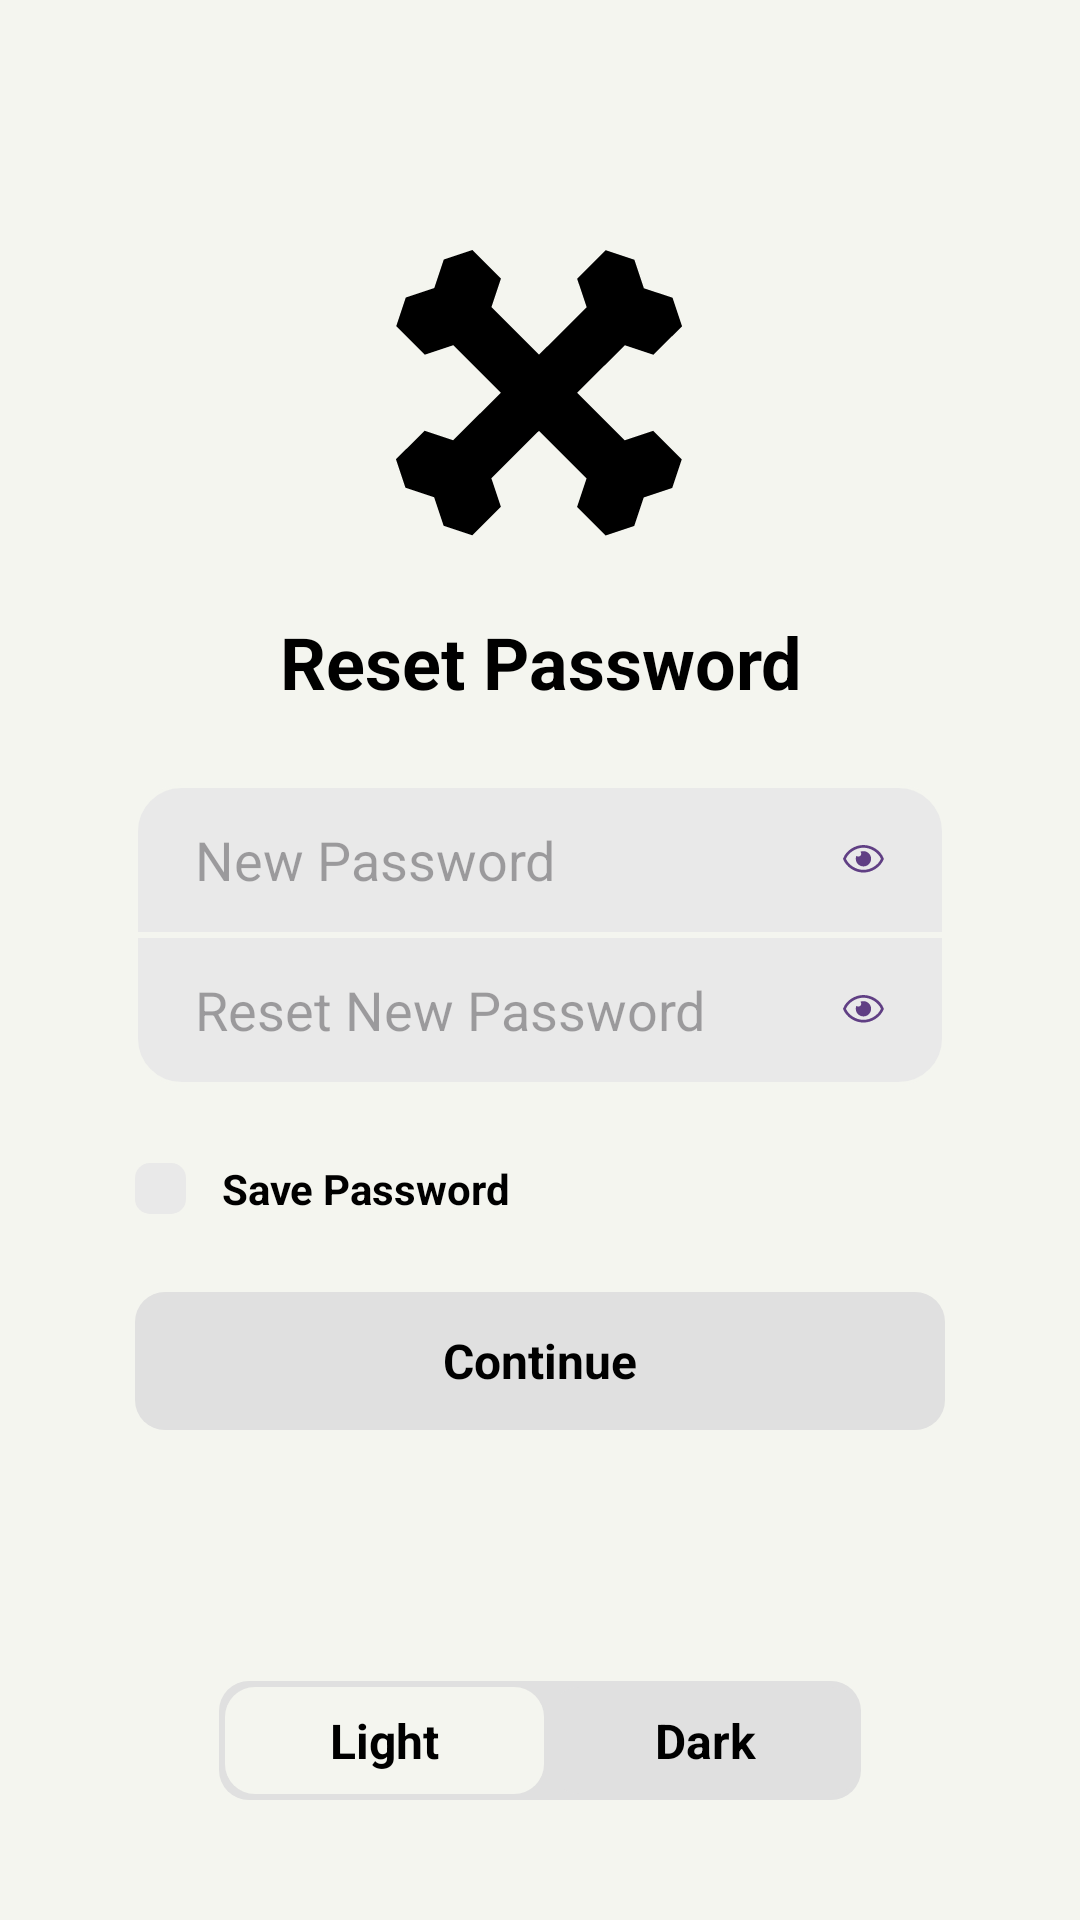

Where icons sit on this 1080px×1920px app screen, as bbox(x1, y1, x2, y2):
eye: bbox(843, 845, 884, 873), bbox(843, 995, 884, 1023)
